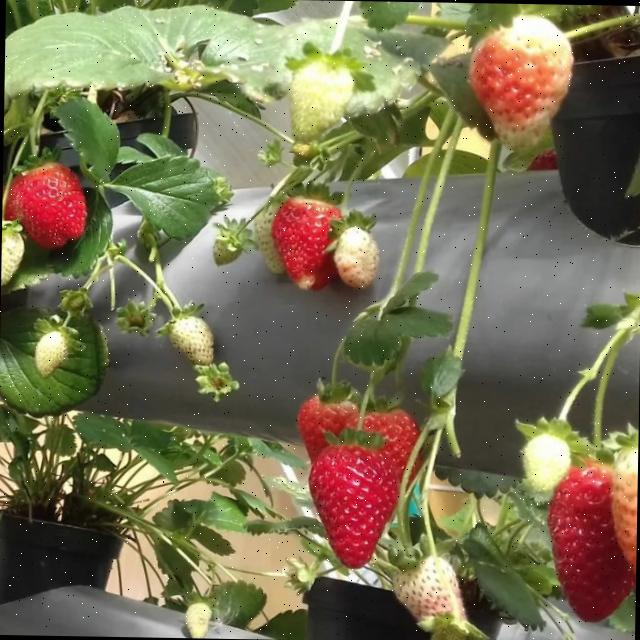Ripe Strawberry: (550, 466, 635, 620), (309, 443, 399, 567), (6, 164, 84, 245), (300, 396, 356, 462), (364, 409, 416, 476)
